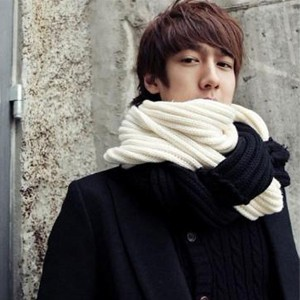face: (159, 28, 236, 123)
